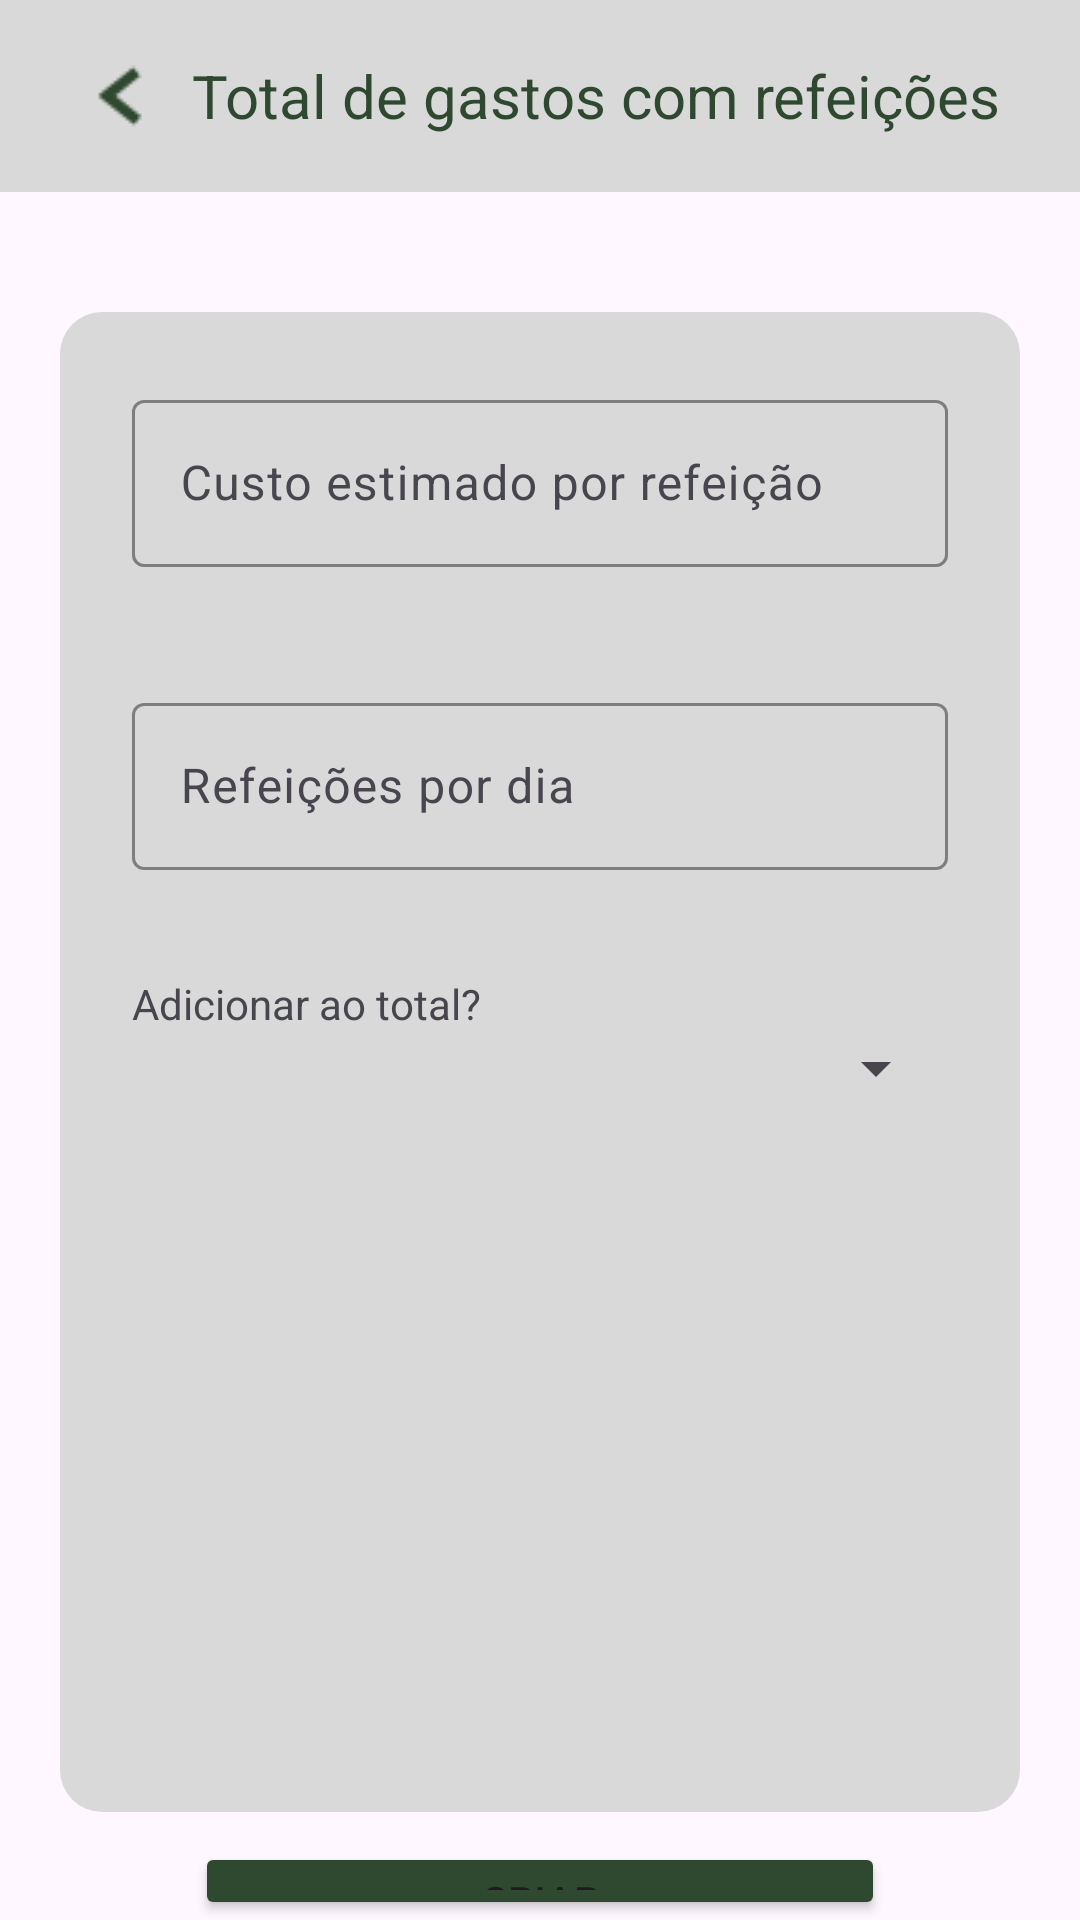

Screen size 1080px x 1920px. Icon name, then its box in pixels as (x1,y1,x2,y2):
Voltar: (98,66,142,126)
